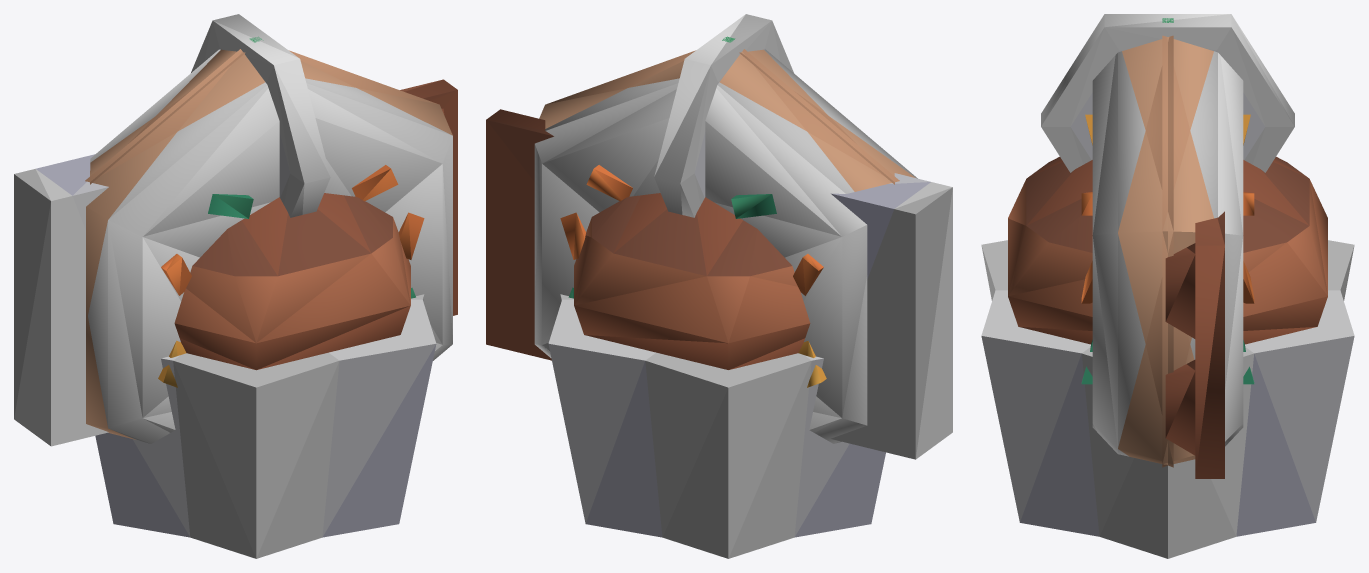
Rendered from bonbons.glb.
3 renders of one model, left to right at view 1: azimuth 30°, elevation 25°; view 2: azimuth 150°, elevation 25°; view 3: azimuth 270°, elevation 25°, orthographic. The views are drawn at different scales.
Visible parts, largest first — view 1: cupcake_fixe, beignet_teinte, cupcake_teinte, chocolat_teinte, beignet_fixe, sucette_teinte, chocolat_fixe; view 2: cupcake_fixe, beignet_teinte, cupcake_teinte, chocolat_teinte, chocolat_fixe, beignet_fixe, sucette_teinte; view 3: cupcake_fixe, beignet_teinte, beignet_fixe, cupcake_teinte, sucette_teinte, chocolat_fixe, sucette_fixe.
Part boxes in pixels (left/top/right/bottom): cupcake_fixe: left=95, top=36, right=436, bottom=537; beignet_teinte: left=88, top=49, right=452, bottom=443; cupcake_teinte: left=173, top=294, right=424, bottom=558; chocolat_teinte: left=14, top=169, right=108, bottom=446; beignet_fixe: left=85, top=49, right=452, bottom=439; sucette_teinte: left=191, top=14, right=330, bottom=217; chocolat_fixe: left=36, top=79, right=457, bottom=315; cupcake_fixe: left=548, top=36, right=885, bottom=537; beignet_teinte: left=534, top=49, right=917, bottom=443; cupcake_teinte: left=560, top=294, right=811, bottom=558; chocolat_teinte: left=831, top=182, right=952, bottom=459; chocolat_fixe: left=486, top=109, right=930, bottom=360; beignet_fixe: left=539, top=49, right=915, bottom=387; sucette_teinte: left=654, top=14, right=793, bottom=217; cupcake_fixe: left=981, top=18, right=1354, bottom=536; beignet_teinte: left=1092, top=51, right=1243, bottom=456; beignet_fixe: left=1081, top=35, right=1254, bottom=467; cupcake_teinte: left=981, top=240, right=1354, bottom=558; sucette_teinte: left=1041, top=14, right=1294, bottom=172; chocolat_fixe: left=1165, top=211, right=1224, bottom=478; sucette_fixe: left=1070, top=50, right=1265, bottom=159.
Bounding box in the file's own units: 1 × 1 × 0.7258.
